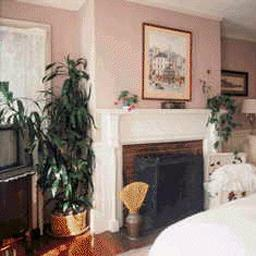Matera: (37, 72, 95, 238)
